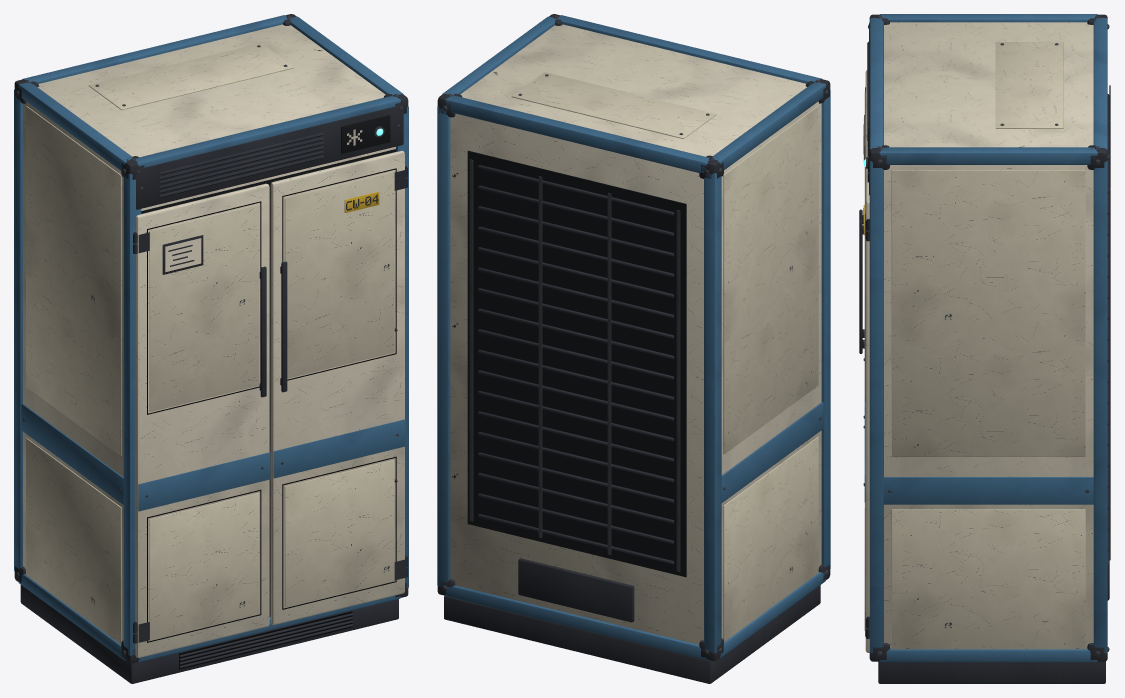
The model's file is fridge.glb.
3 renders of one model, left to right at view 1: azimuth 30°, elevation 25°; view 2: azimuth 150°, elevation 25°; view 3: azimuth 270°, elevation 25°, orthographic. The views are drawn at different scales.
Parts seen in each view (by area): view 1: FridgeBody; view 2: FridgeBody; view 3: FridgeBody.
Part boxes in pixels (box(x1,y1,x2,y2)): FridgeBody: box(14, 14, 408, 683); FridgeBody: box(437, 14, 830, 683); FridgeBody: box(859, 14, 1110, 683).
Size of the model in its own units: 0.9801 by 1.74 by 0.738.
Materials: 11 (6 with a texture image).
